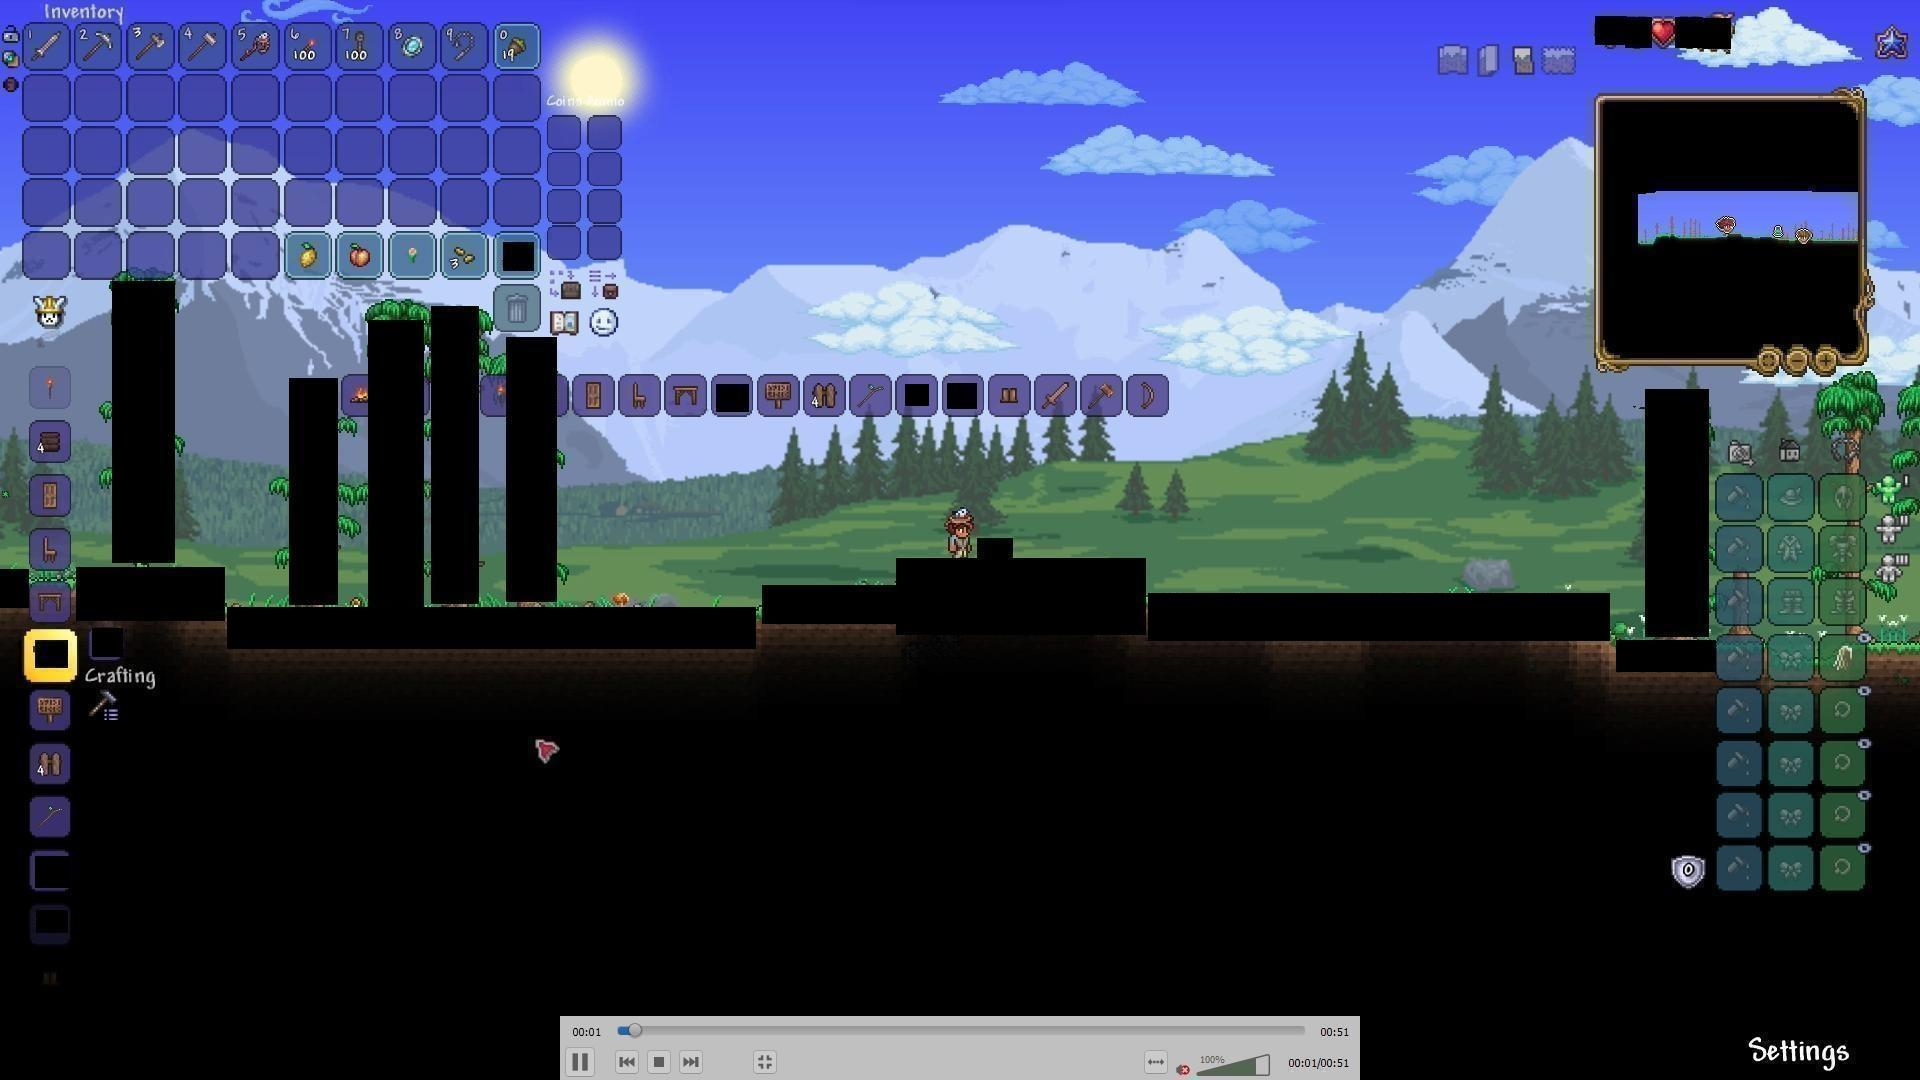dirt: (1867, 633, 1920, 679)
heart: (1648, 17, 1677, 47)
legs: (1000, 385, 1021, 404)
